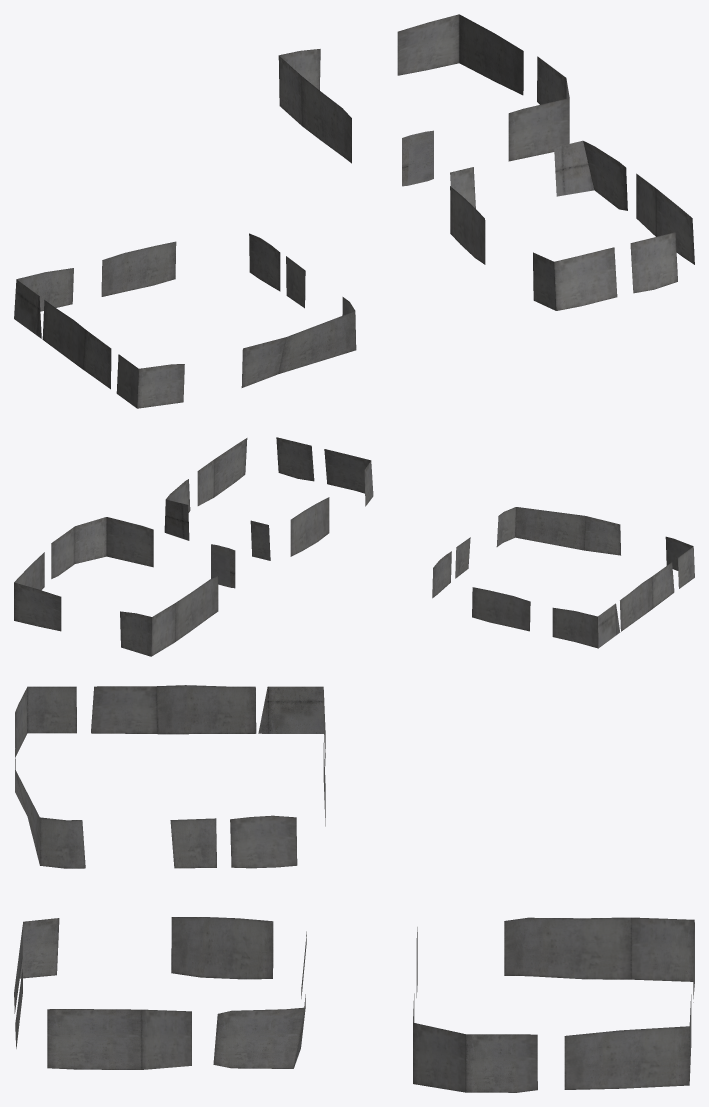
The model's file is SM_Corridor_08_Window.fbx.
The picture shows the model from 3 angles, top to bottom: view 1: azimuth 30°, elevation 25°; view 2: azimuth 150°, elevation 25°; view 3: azimuth 270°, elevation 25°; orthographic projection. The views are drawn at different scales.
Visible parts, largest first — view 1: SM_Corridor_08_09.002, SM_Corridor_08_09.014, SM_Corridor_08_09.010, SM_Corridor_08_09.013, SM_Corridor_08_01.005, SM_Corridor_08_01.002, SM_Corridor_08_09.017, SM_Corridor_08_09.003, SM_Corridor_08_01.011, SM_Corridor_08_09.006, SM_Corridor_08_09.009, SM_Corridor_08_01.009 (+16 smaller); view 2: SM_Corridor_08_01.002, SM_Corridor_08_09.010, SM_Corridor_08_01.005, SM_Corridor_08_09.013, SM_Corridor_08_09.017, SM_Corridor_08_09.009, SM_Corridor_08_01.006, SM_Corridor_08_09.002, SM_Corridor_08_09.003, SM_Corridor_08_09.011, SM_Corridor_08_09.015, SM_Corridor_08_09.004 (+17 smaller); view 3: SM_Corridor_08_09.017, SM_Corridor_08_09.014, SM_Corridor_08_09.009, SM_Corridor_08_09.004, SM_Corridor_08_09.006, SM_Corridor_08_01.009, SM_Corridor_08_09.012, SM_Corridor_08_09.016, SM_Corridor_08_01.004, SM_Corridor_08_09.011, SM_Corridor_08_01.010, SM_Corridor_08_09.005 (+7 smaller).
Boxes of the visible parts, left/top/right/bottom form: SM_Corridor_08_09.002: left=554, top=247, right=617, bottom=310; SM_Corridor_08_09.014: left=459, top=14, right=523, bottom=95; SM_Corridor_08_09.010: left=508, top=98, right=569, bottom=161; SM_Corridor_08_09.013: left=397, top=14, right=459, bottom=75; SM_Corridor_08_01.005: left=101, top=241, right=176, bottom=296; SM_Corridor_08_01.002: left=278, top=311, right=356, bottom=373; SM_Corridor_08_09.017: left=301, top=75, right=351, bottom=163; SM_Corridor_08_09.003: left=630, top=232, right=677, bottom=293; SM_Corridor_08_01.011: left=137, top=364, right=184, bottom=408; SM_Corridor_08_09.006: left=583, top=141, right=627, bottom=210; SM_Corridor_08_09.009: left=450, top=186, right=485, bottom=264; SM_Corridor_08_01.009: left=42, top=300, right=85, bottom=369; SM_Corridor_08_01.002: left=515, top=507, right=585, bottom=550; SM_Corridor_08_09.010: left=106, top=517, right=153, bottom=567; SM_Corridor_08_01.005: left=472, top=587, right=530, bottom=631; SM_Corridor_08_09.013: left=14, top=582, right=61, bottom=631; SM_Corridor_08_09.017: left=175, top=576, right=218, bottom=641; SM_Corridor_08_09.009: left=290, top=497, right=329, bottom=556; SM_Corridor_08_01.006: left=552, top=607, right=598, bottom=648; SM_Corridor_08_09.002: left=324, top=449, right=370, bottom=493; SM_Corridor_08_09.003: left=276, top=437, right=314, bottom=481; SM_Corridor_08_09.011: left=75, top=517, right=106, bottom=563; SM_Corridor_08_09.015: left=120, top=611, right=151, bottom=656; SM_Corridor_08_09.004: left=214, top=438, right=247, bottom=497; SM_Corridor_08_09.017: left=504, top=917, right=631, bottom=979; SM_Corridor_08_09.014: left=564, top=1026, right=689, bottom=1089; SM_Corridor_08_09.009: left=171, top=917, right=273, bottom=979; SM_Corridor_08_09.004: left=47, top=1009, right=141, bottom=1069; SM_Corridor_08_09.006: left=213, top=1007, right=305, bottom=1068; SM_Corridor_08_01.009: left=156, top=685, right=256, bottom=734; SM_Corridor_08_09.012: left=466, top=1034, right=537, bottom=1092; SM_Corridor_08_09.016: left=631, top=917, right=694, bottom=981; SM_Corridor_08_01.004: left=230, top=815, right=297, bottom=868; SM_Corridor_08_09.011: left=413, top=1022, right=465, bottom=1092; SM_Corridor_08_01.010: left=91, top=686, right=157, bottom=733; SM_Corridor_08_09.005: left=141, top=1009, right=191, bottom=1069.
Bounding box in the file's own units: 4057 × 331 × 3238.
